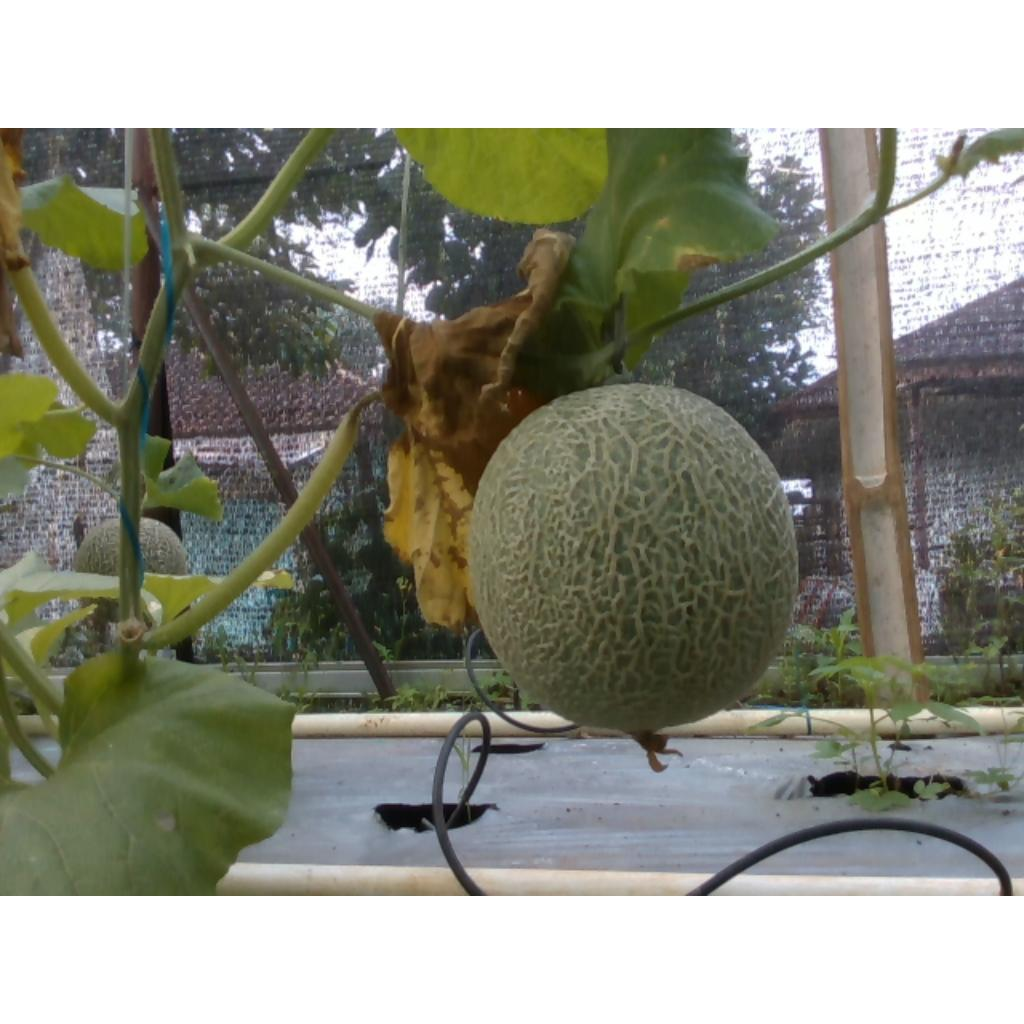melon: (470, 384, 800, 732)
